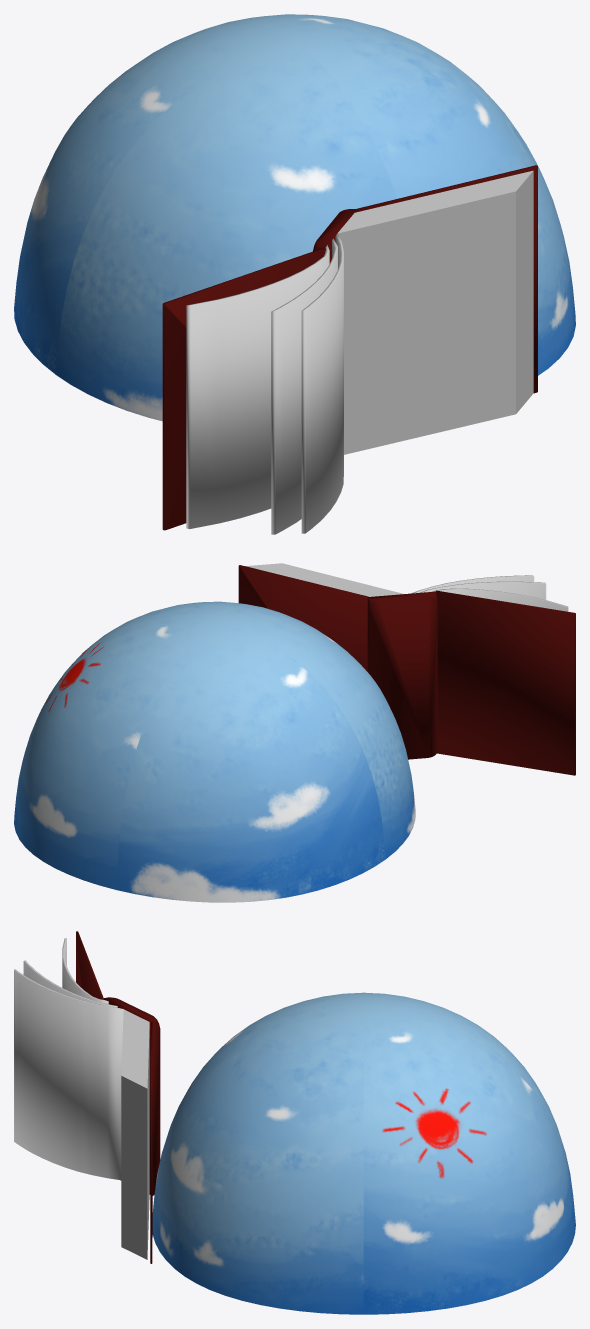
File: doom.fbx
3 views of the same model, one above another, from view 1: azimuth 30°, elevation 25°; view 2: azimuth 150°, elevation 25°; view 3: azimuth 270°, elevation 25° (orthographic). The views are drawn at different scales.
Visible parts, largest first — view 1: doom, book; view 2: doom, book; view 3: doom, book.
Part boxes in pixels (x1,y1,x2,y2): doom: (14, 14, 575, 421); book: (162, 165, 537, 534); doom: (14, 601, 415, 902); book: (238, 563, 575, 775); doom: (152, 992, 575, 1314); book: (14, 931, 160, 1263).
Size of the model in its own units: 9731 by 4593 by 11055.
